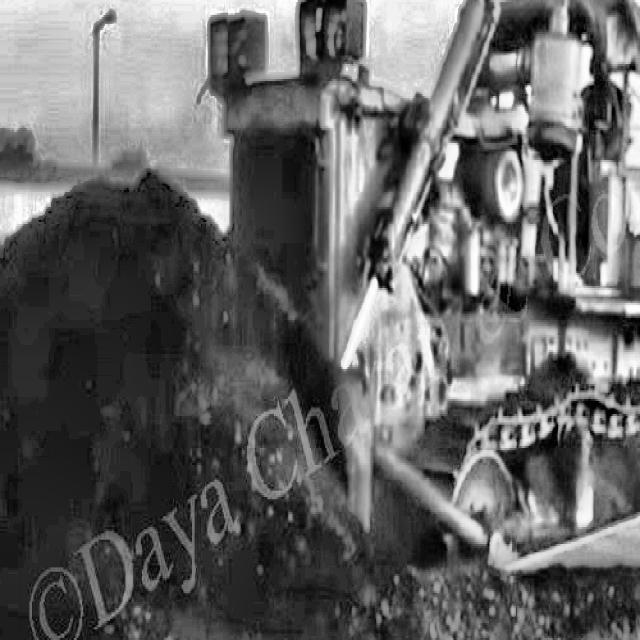buldozerpayloadergrader: (126, 0, 640, 574)
